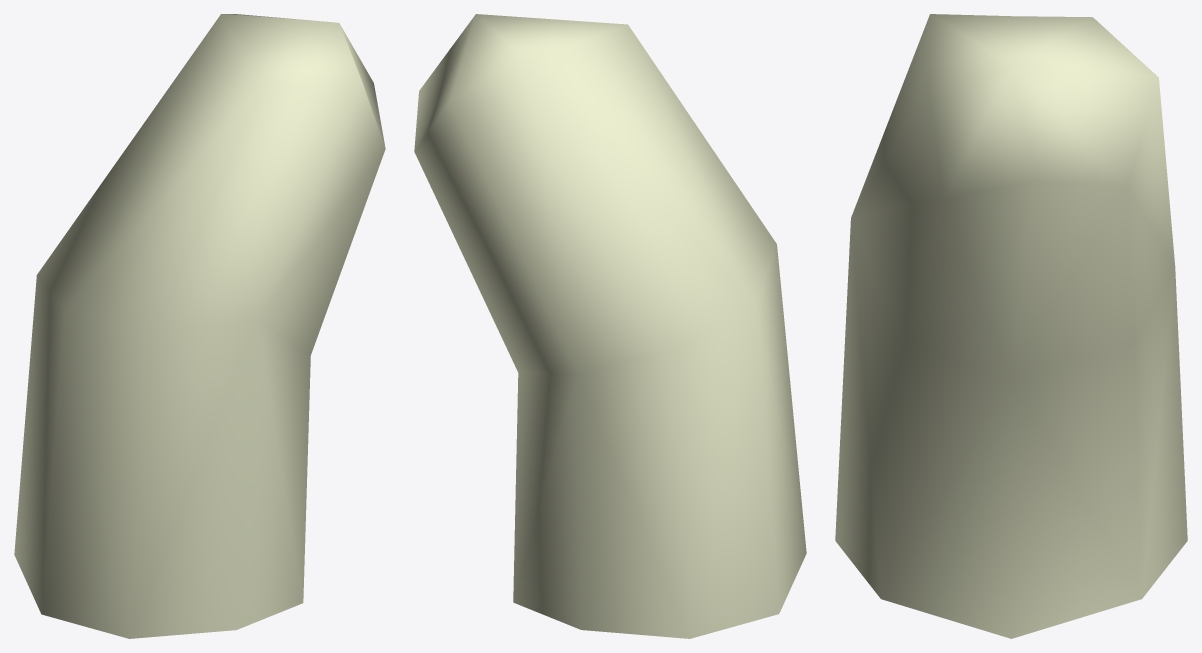
3 renders of one model, left to right at view 1: azimuth 30°, elevation 25°; view 2: azimuth 150°, elevation 25°; view 3: azimuth 270°, elevation 25°, orthographic. The views are drawn at different scales.
Visible parts, largest first — view 1: Object29; view 2: Object29; view 3: Object29.
Part boxes in pixels (<box>): Object29: <box>14,14,385,638</box>; Object29: <box>414,14,806,638</box>; Object29: <box>835,14,1187,638</box>.
Size of the model in its own units: 114 by 167 by 89.15.
